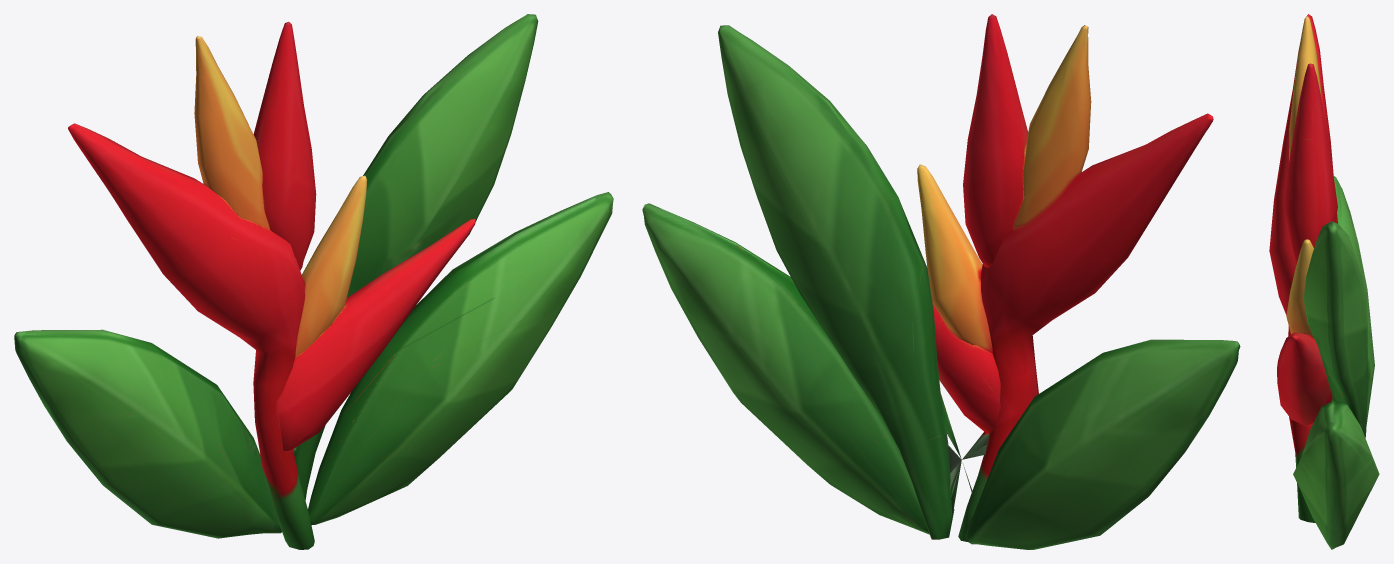
Rendered from birdofparadise.glb.
3 views of the same model, side by side, from view 1: azimuth 30°, elevation 25°; view 2: azimuth 150°, elevation 25°; view 3: azimuth 270°, elevation 25° (orthographic). The views are drawn at different scales.
Bounding box in the file's own units: 1 × 0.8594 × 0.1875.
Materials: 1 (1 with a texture image).
